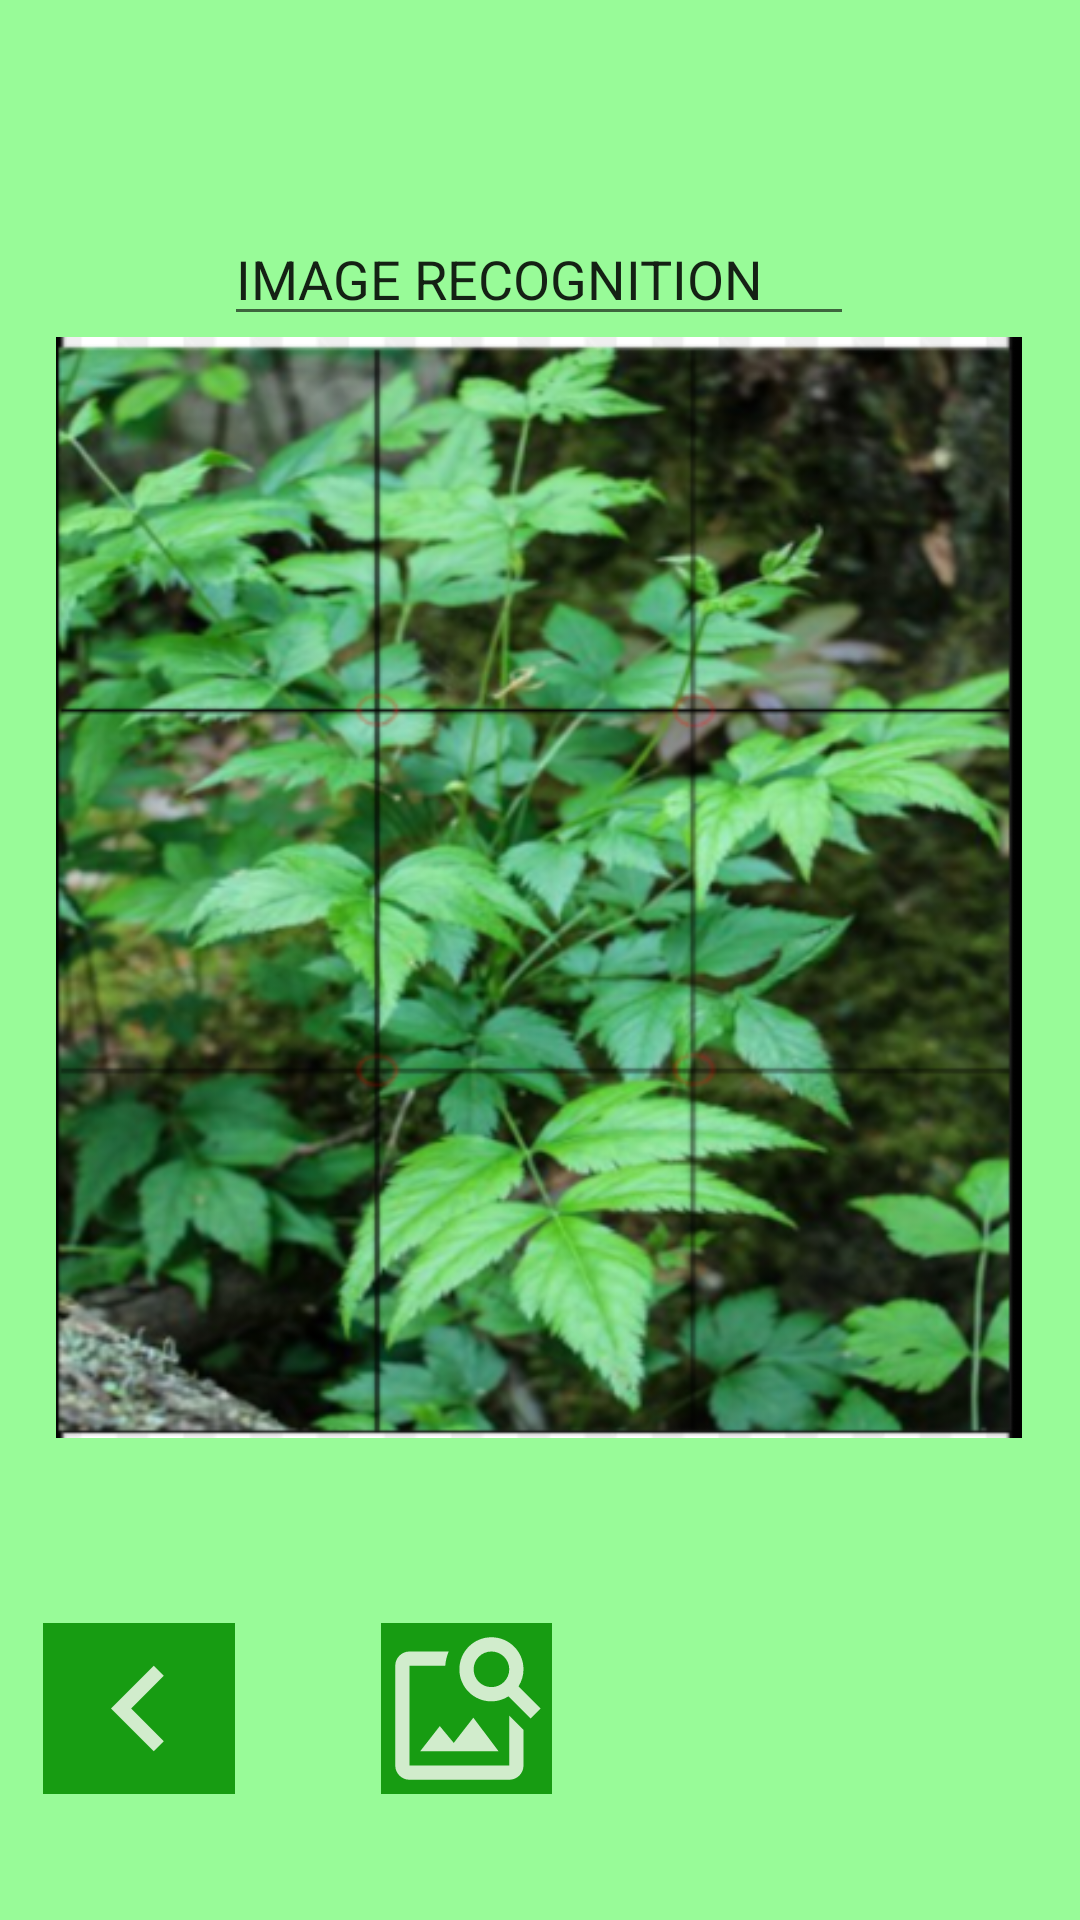

Icon click points for this 1080w x 1920h phone screenshot, format (x=x, y=y):
search: (x=466, y=1708)
